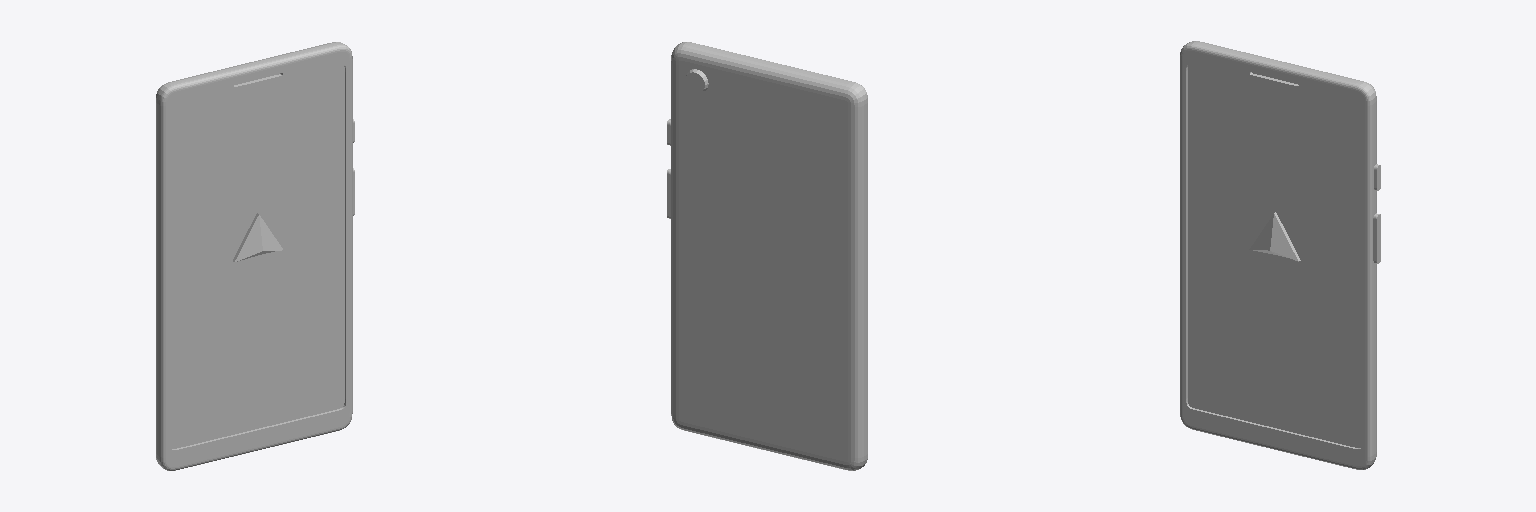
File: phone.obj
3 renders of one model, left to right at view 1: azimuth 30°, elevation 25°; view 2: azimuth 150°, elevation 25°; view 3: azimuth 330°, elevation 25°, orthographic.
Visible parts, largest first — view 1: Cube; view 2: Cube; view 3: Cube.
Part boxes in pixels (bbox=[...]): Cube: bbox=[156, 42, 354, 470]; Cube: bbox=[667, 42, 867, 470]; Cube: bbox=[1180, 41, 1380, 469].
Bounding box in the file's own units: 0.077 × 0.145 × 0.0115.